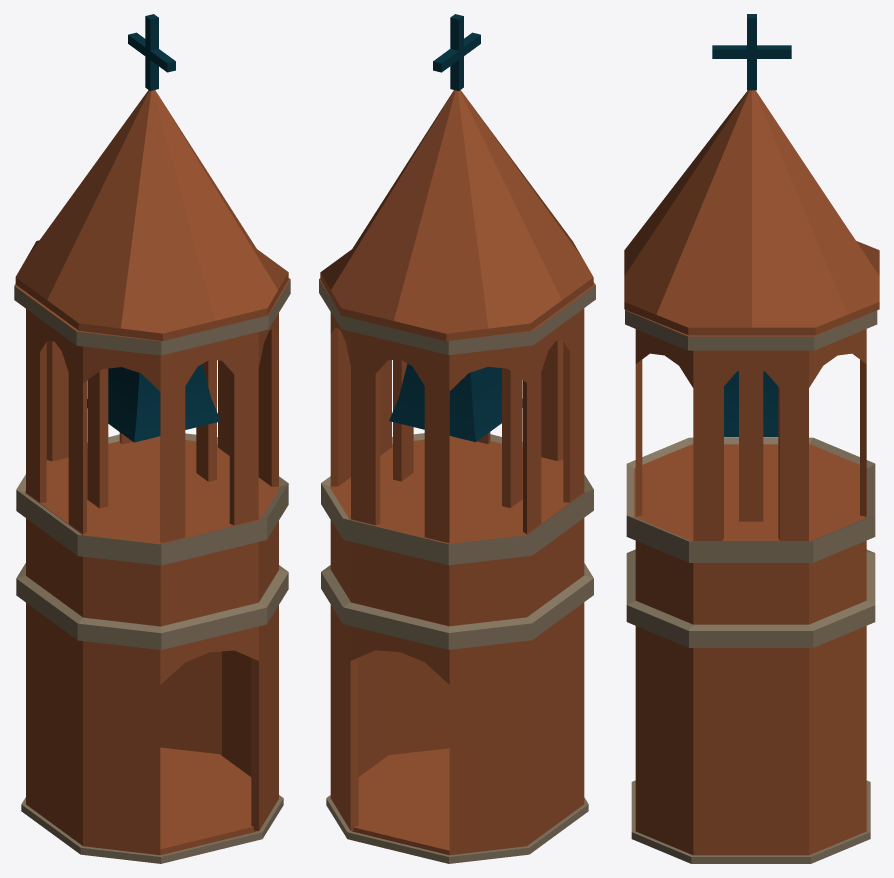
Rendered from Church.fbx.
3 views of the same model, side by side, from view 1: azimuth 30°, elevation 25°; view 2: azimuth 150°, elevation 25°; view 3: azimuth 270°, elevation 25° (orthographic).
Visible parts, largest first — view 1: KyrkaTorn; view 2: KyrkaTorn; view 3: KyrkaTorn.
Boxes of the visible parts, <box> form: KyrkaTorn: <box>14,14,290,863</box>; KyrkaTorn: <box>319,14,595,863</box>; KyrkaTorn: <box>624,14,879,863</box>.
Bounding box in the file's own units: 133 × 471 × 136.
